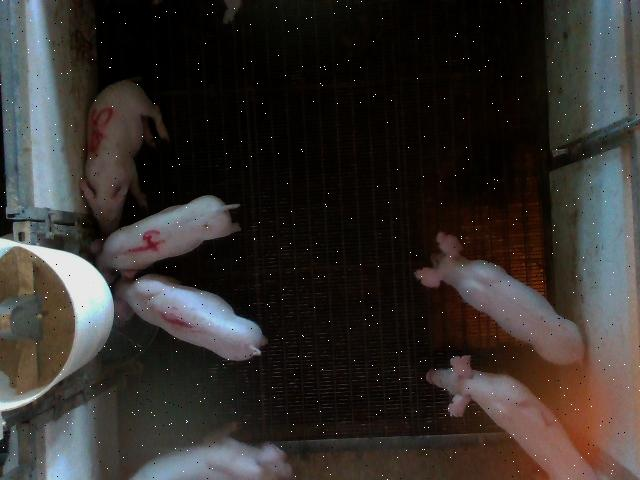pig-1: (119, 274, 268, 361)
pig-2: (426, 356, 598, 479)
pig-4: (99, 195, 240, 273)
pig-5: (80, 79, 170, 236)
